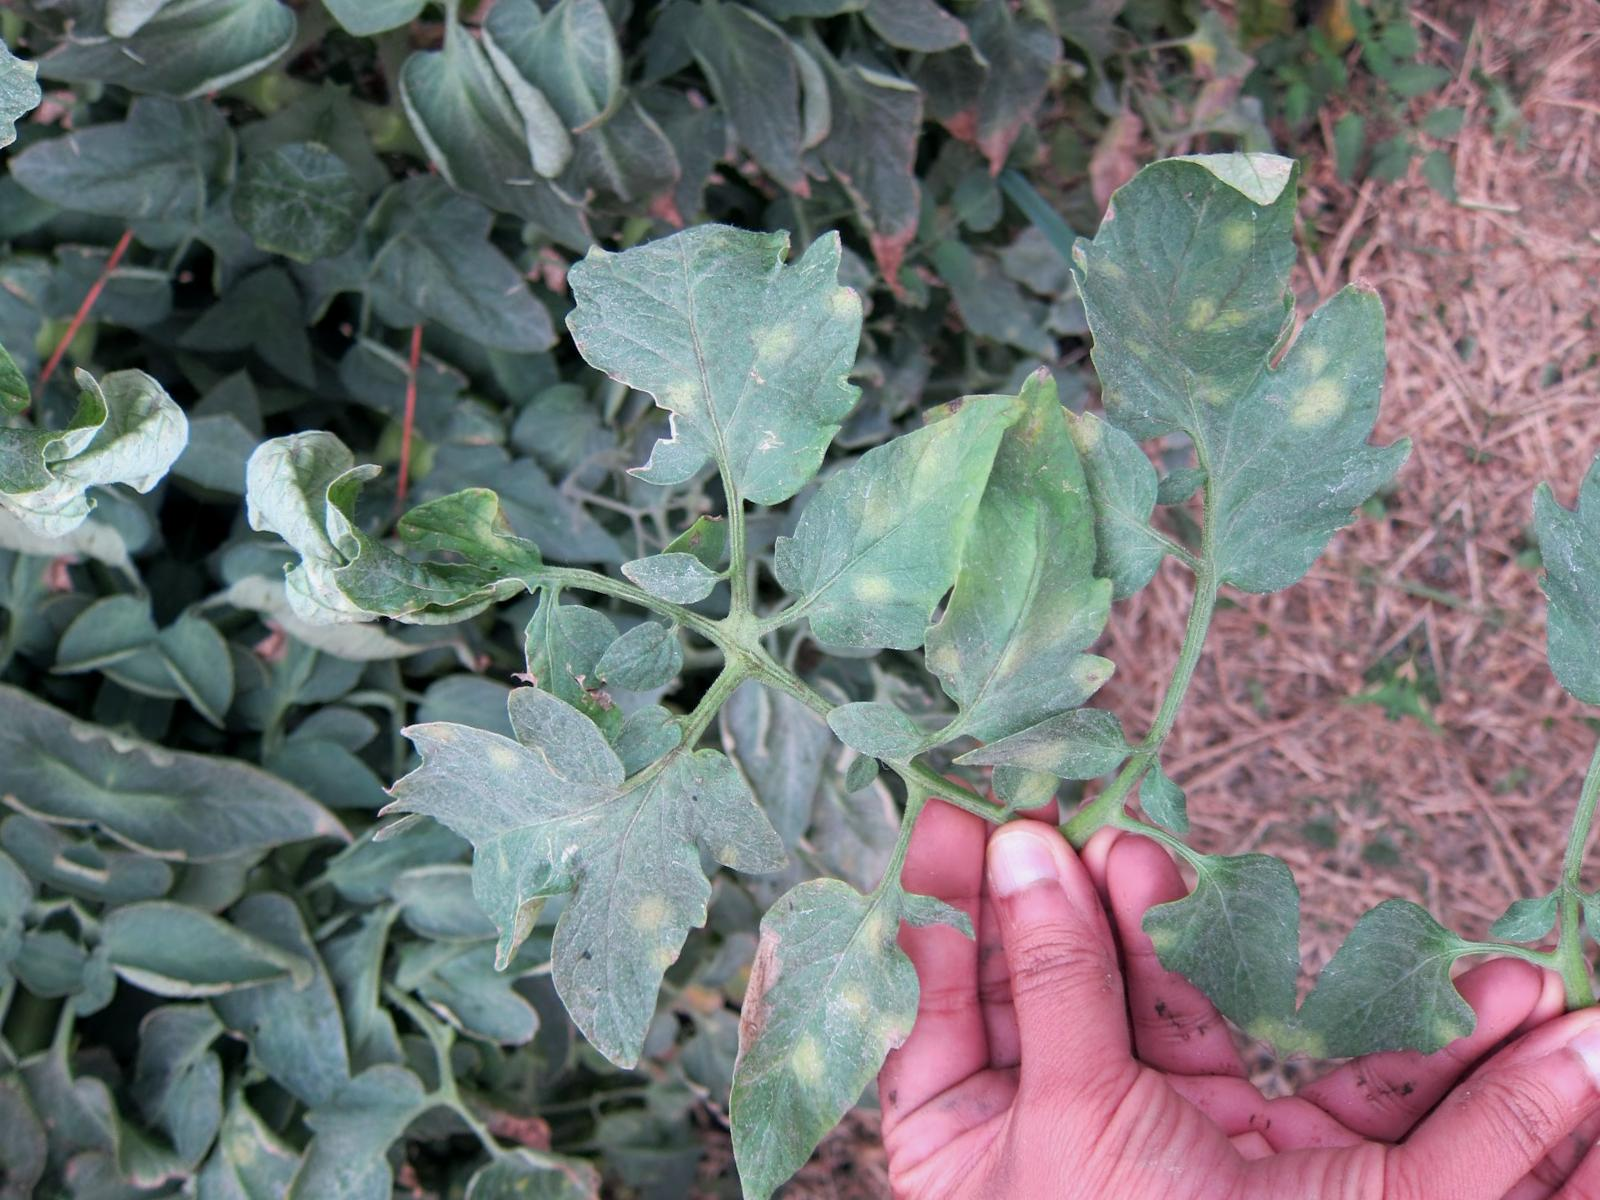Tomato mold leaf: (306, 643, 801, 1102), (511, 151, 910, 551), (1158, 190, 1474, 677), (911, 350, 1235, 814), (1002, 62, 1352, 478), (751, 321, 1117, 703), (629, 834, 973, 1200), (200, 400, 562, 688), (1104, 804, 1340, 1064)
